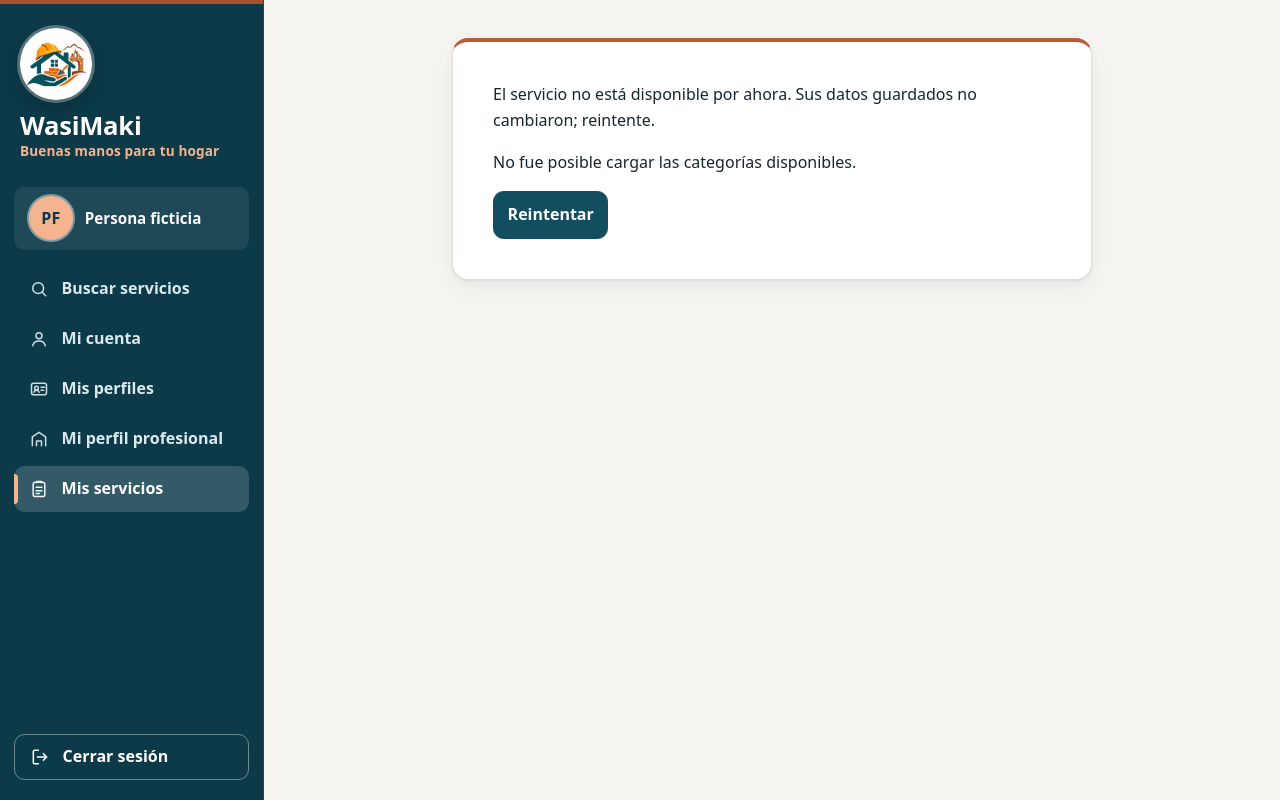
Scenario: si las categorías no cargan, las pantallas profesionales lo informan y permiten reintentar
This screenshot has width=1280, height=800.
Expected: the text "No fue posible cargar las categorías disponibles." is shown, [493,151,856,173]
Click the button "Reintentar".
click(551, 215)  # box [493,191,608,239]
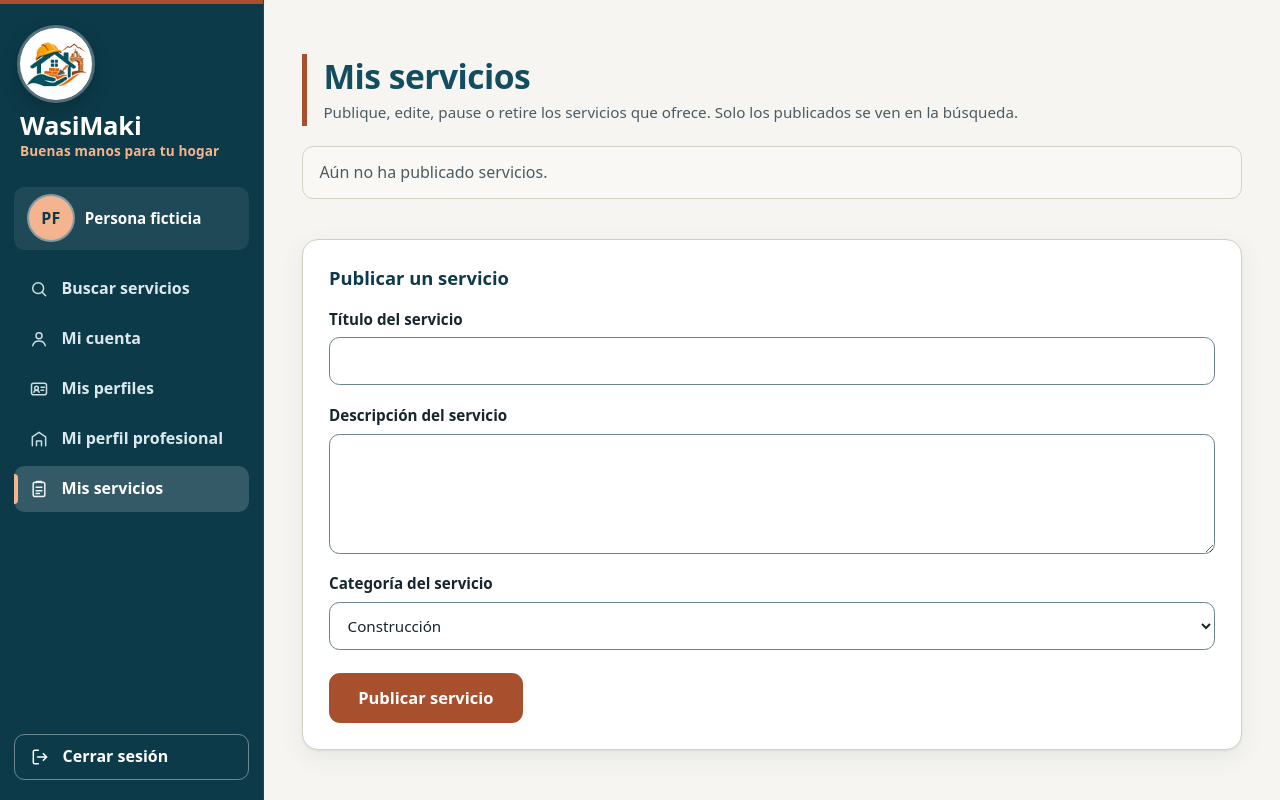
Now the dropdown labelled "Categoría del servicio" is shown, box [329,602,1215,650]
